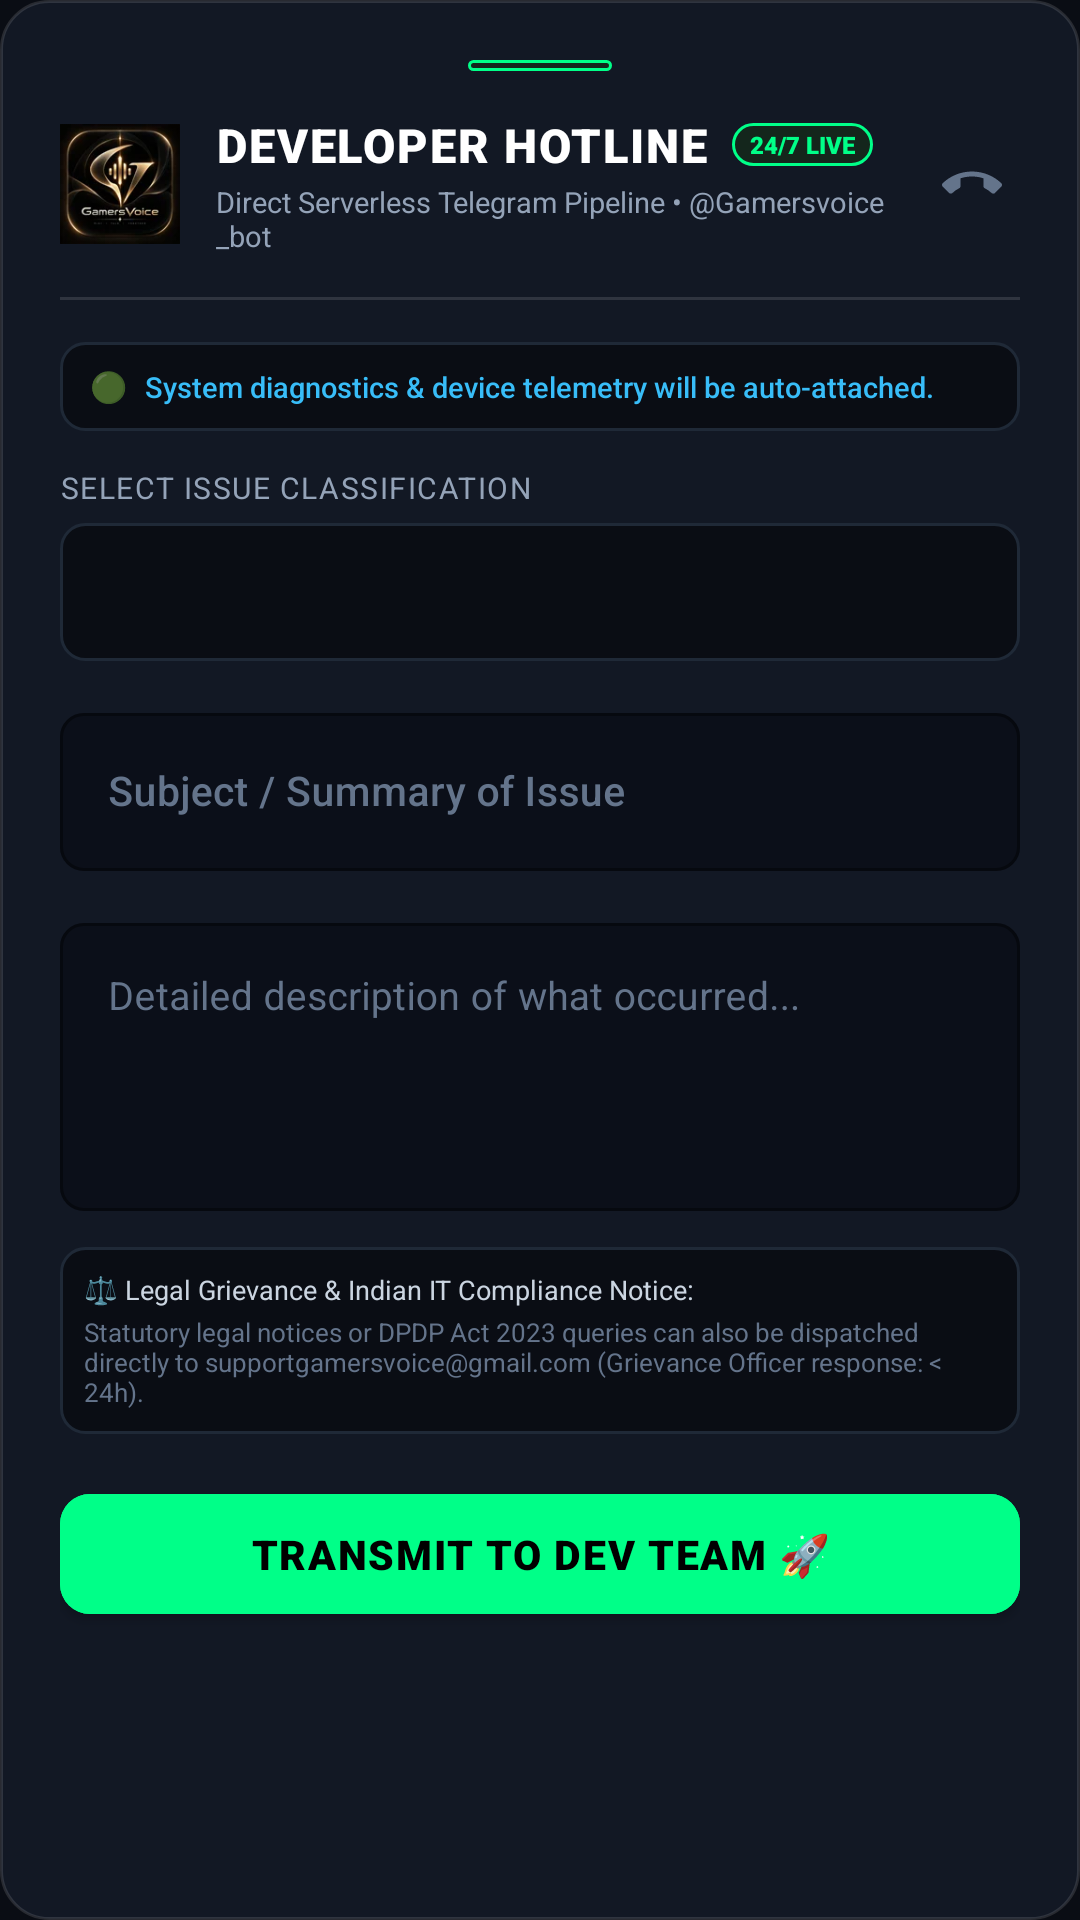

Icons on this 1080w x 1920h Android screen, each with the point to tap as [x,y]:
Close: [972,182]
